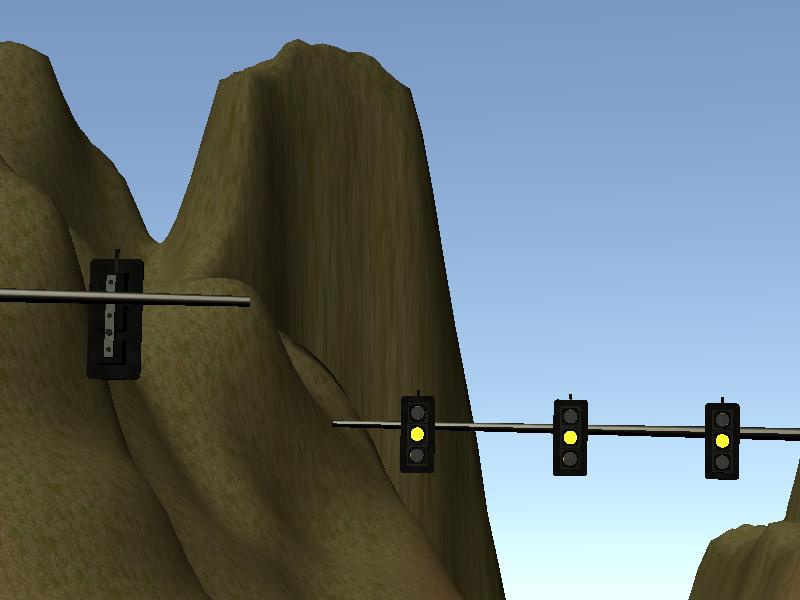yellow_light: (555, 403, 587, 475), (707, 402, 738, 476), (404, 398, 432, 471)
